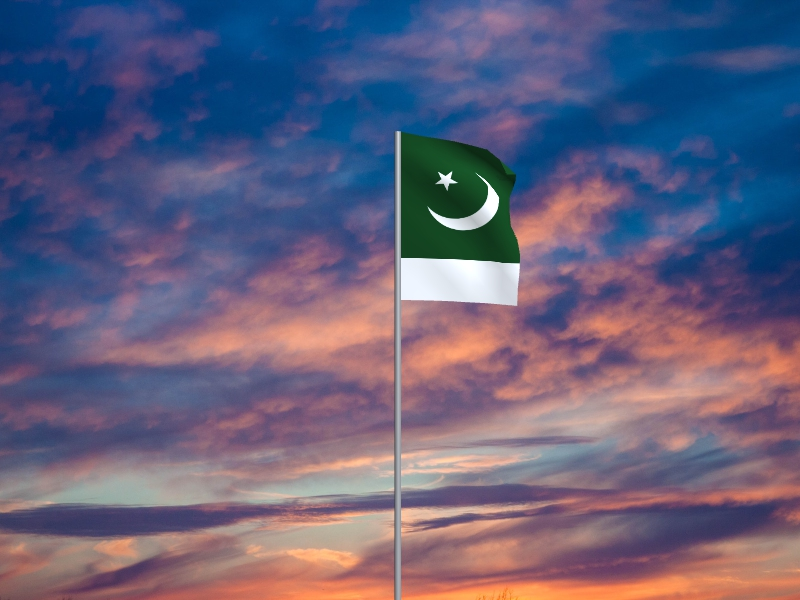pk: (401, 133, 522, 307)
